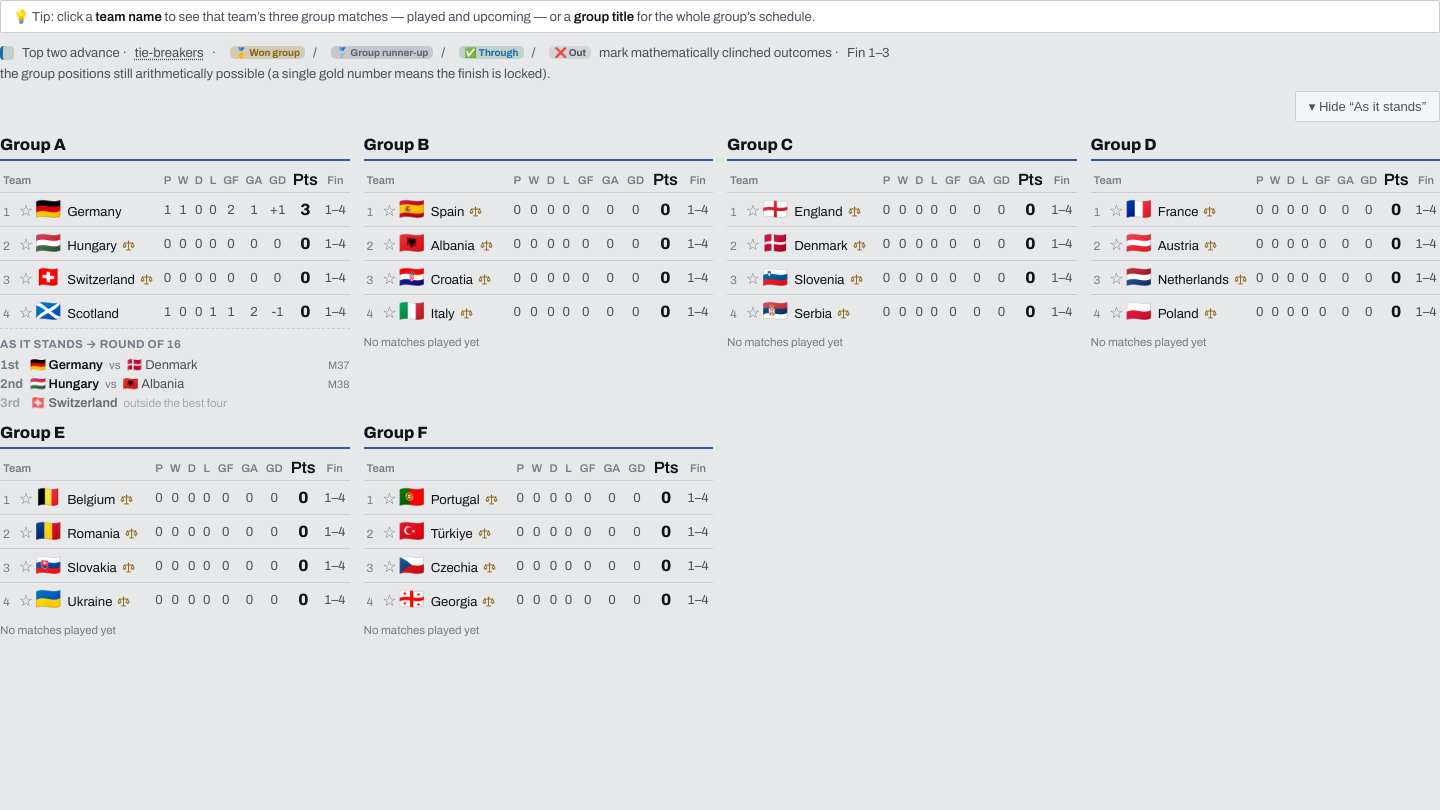
it: Group games pop-up › shows only the selected team’s three matches when a team is clicked
The width and height of the screenshot is (1440, 810).
What coordinates should you click on to do the following:
click the button "Germany"
I would click on:
 (94, 212)
Its box is [67,204,122,220].
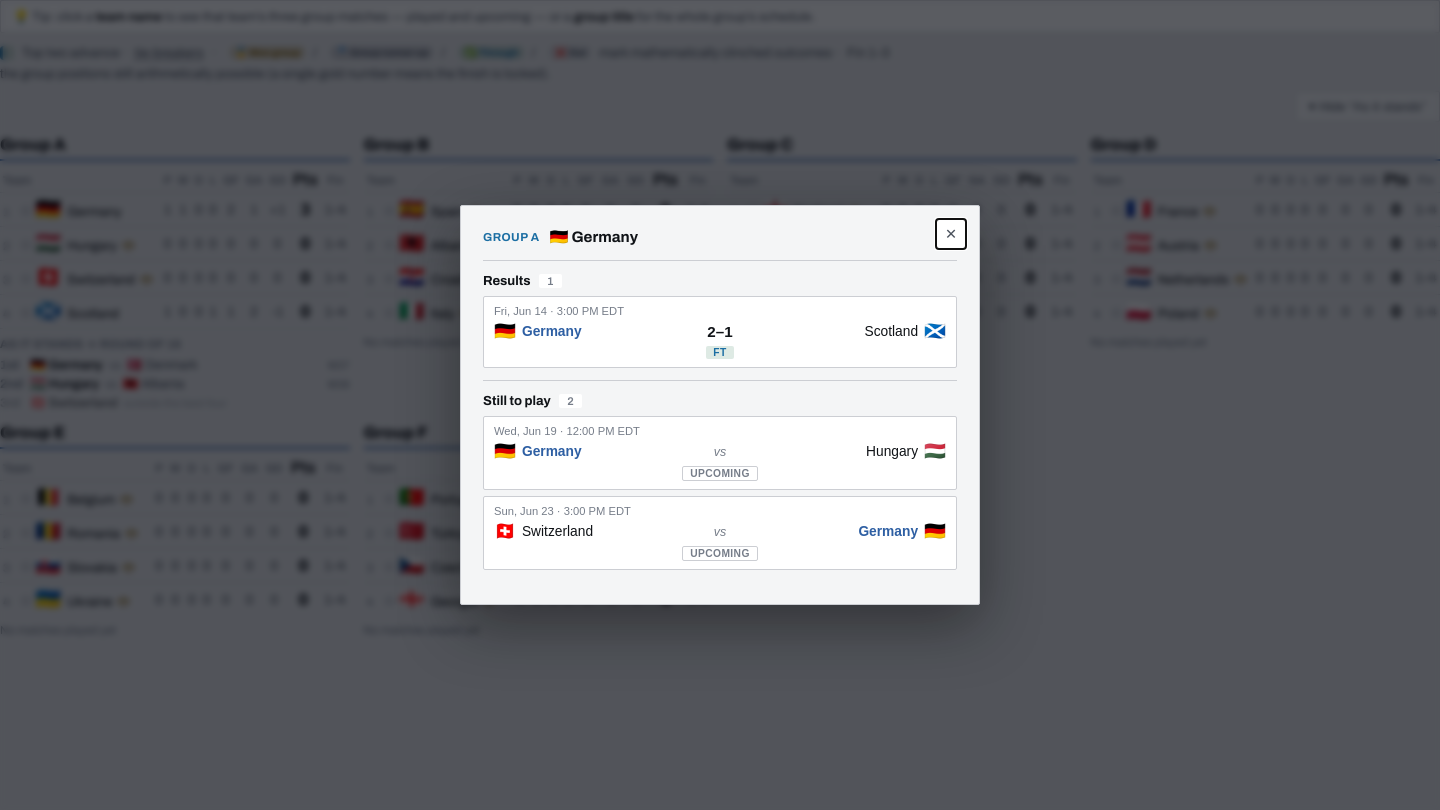
Expected: the text with class "gg-head-team" shows "Germany", [571,229,638,245]
Expected: the number of buttons with class "gg-fixture" is 3, [483,296,957,368]; [483,416,957,490]; [483,496,957,570]
Expected: the heading "Results 1" is shown, [483,273,562,288]
